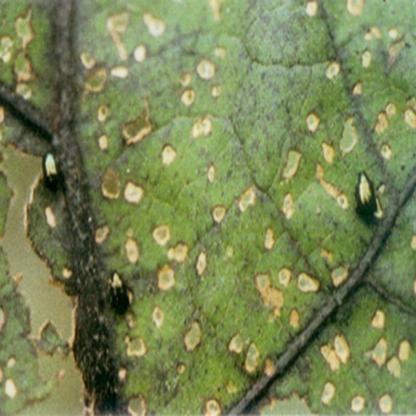beetle: (351, 169, 380, 229), (107, 264, 131, 313), (40, 150, 63, 191)
